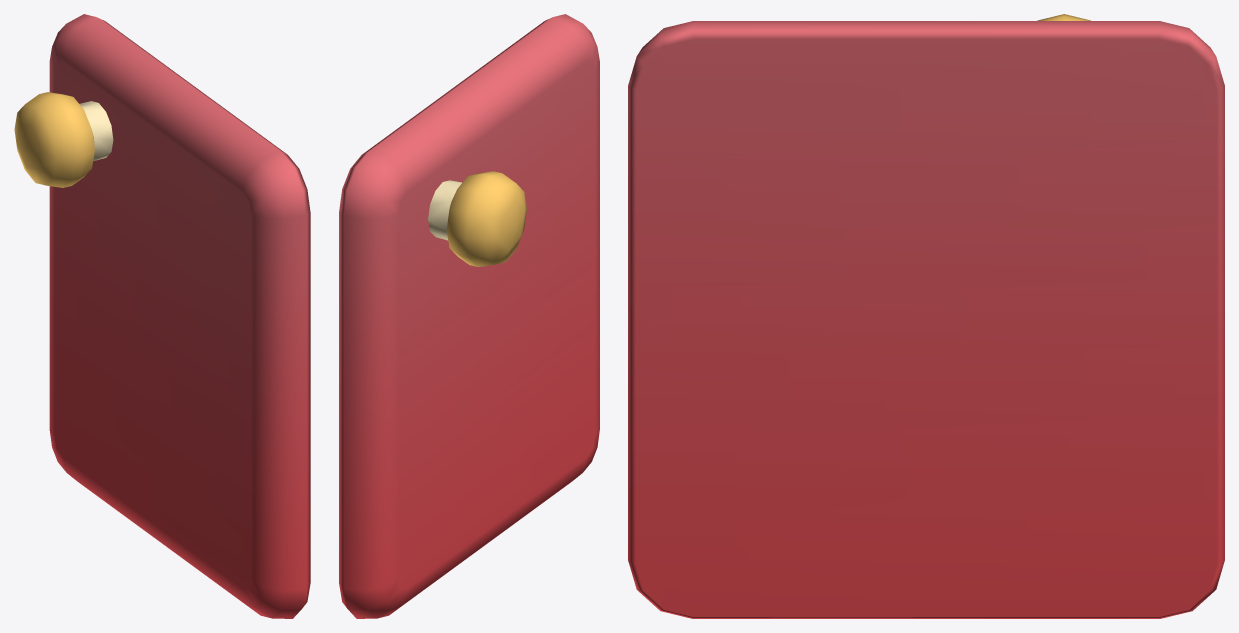
File: Kitchen_sink_door_002.fbx
3 renders of one model, left to right at view 1: azimuth 30°, elevation 25°; view 2: azimuth 150°, elevation 25°; view 3: azimuth 270°, elevation 25°, orthographic. The views are drawn at different scales.
Visible parts, largest first — view 1: Kitchen_sink_door_002; view 2: Kitchen_sink_door_002; view 3: Kitchen_sink_door_002.
Part boxes in pixels (x1,y1,x2,y2): Kitchen_sink_door_002: (14,14,310,618); Kitchen_sink_door_002: (339,14,599,618); Kitchen_sink_door_002: (628,14,1224,618).
Bounding box in the file's own units: 11.34 × 39.32 × 43.04.
